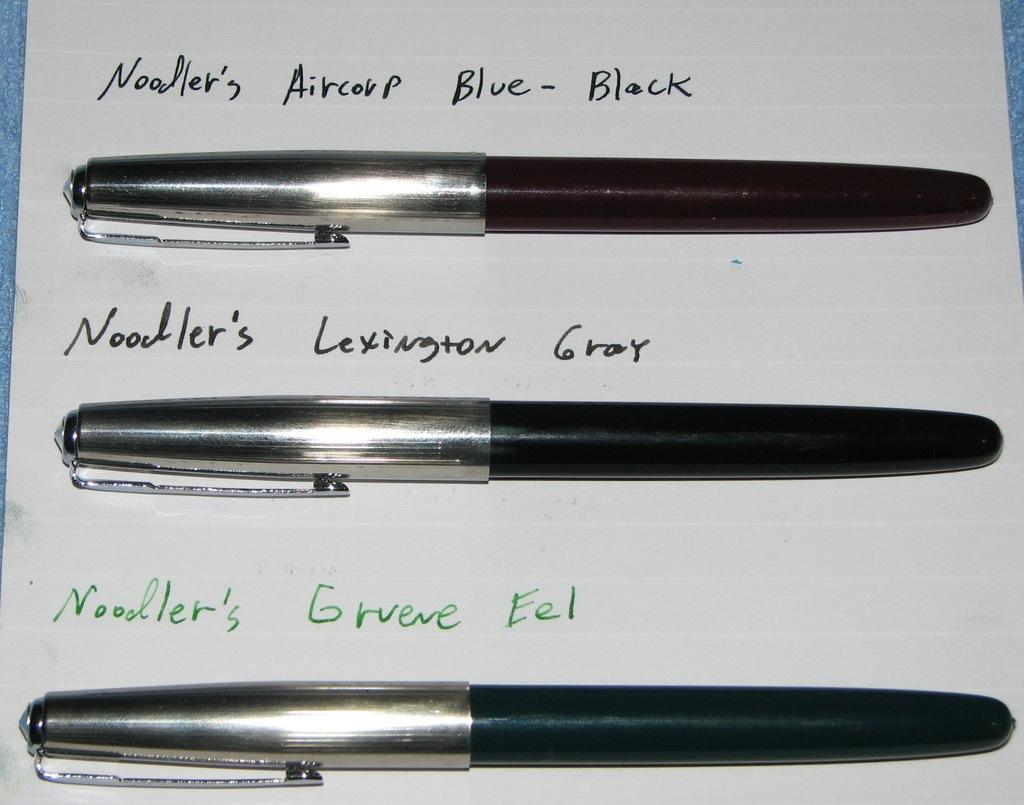pen: (49, 389, 1001, 508), (17, 678, 1016, 790), (55, 147, 997, 258)
